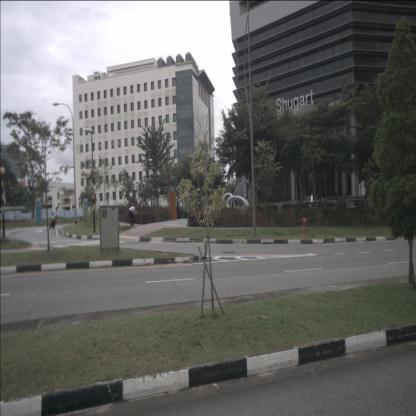human-pedestrian-adult: (128, 205, 136, 226), (176, 198, 179, 219)
vehicle-motorcycle: (50, 206, 60, 229)
